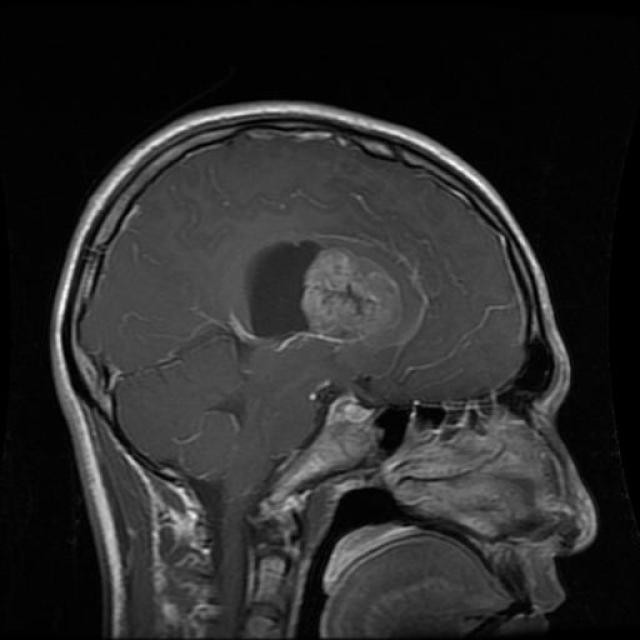glioma: (232, 235, 428, 361)
